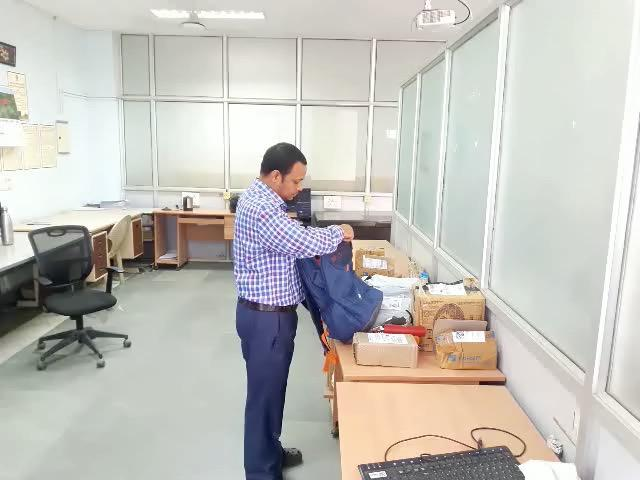shoplifting: (205, 201, 408, 327)
